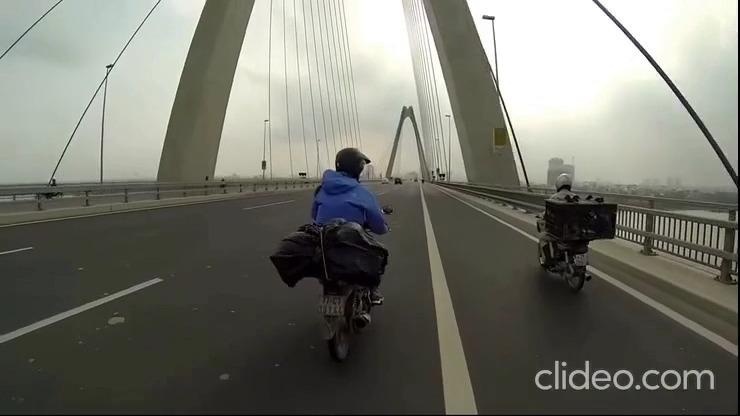helmet: (334, 147, 371, 183), (554, 172, 573, 193)
